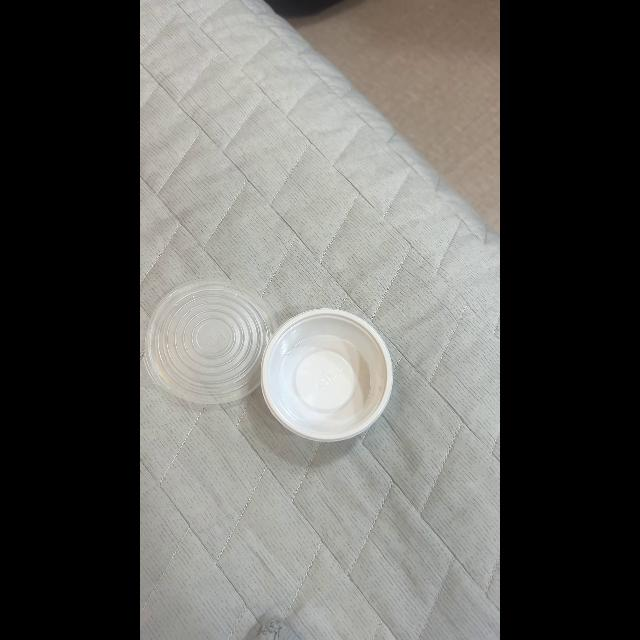clean: (260, 308, 392, 440), (142, 281, 278, 404)
